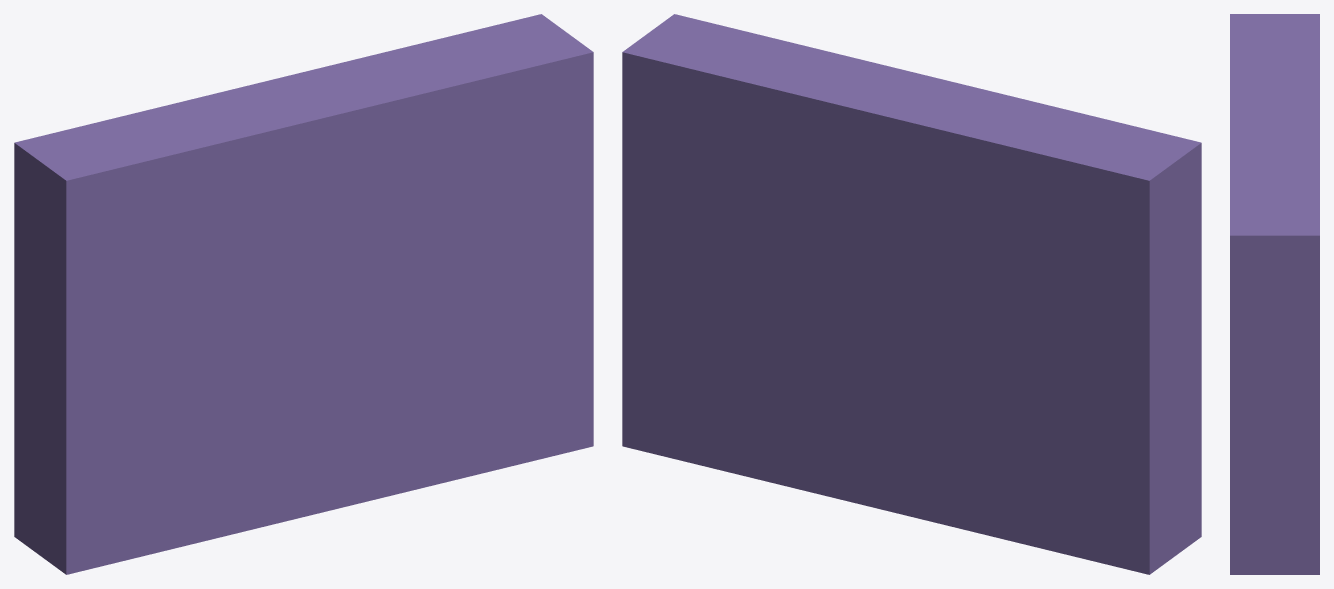
Rendered from Book.glb.
The picture shows the model from 3 angles, left to right: view 1: azimuth 30°, elevation 25°; view 2: azimuth 150°, elevation 25°; view 3: azimuth 270°, elevation 25°; orthographic projection. The views are drawn at different scales.
Visible parts, largest first — view 1: Cover; view 2: Cover; view 3: Cover.
Part boxes in pixels (<box>): Cover: <box>14,14,593,574</box>; Cover: <box>622,14,1201,574</box>; Cover: <box>1230,14,1319,574</box>.
Bounding box in the file's own units: 0.14 × 0.1 × 0.024.
